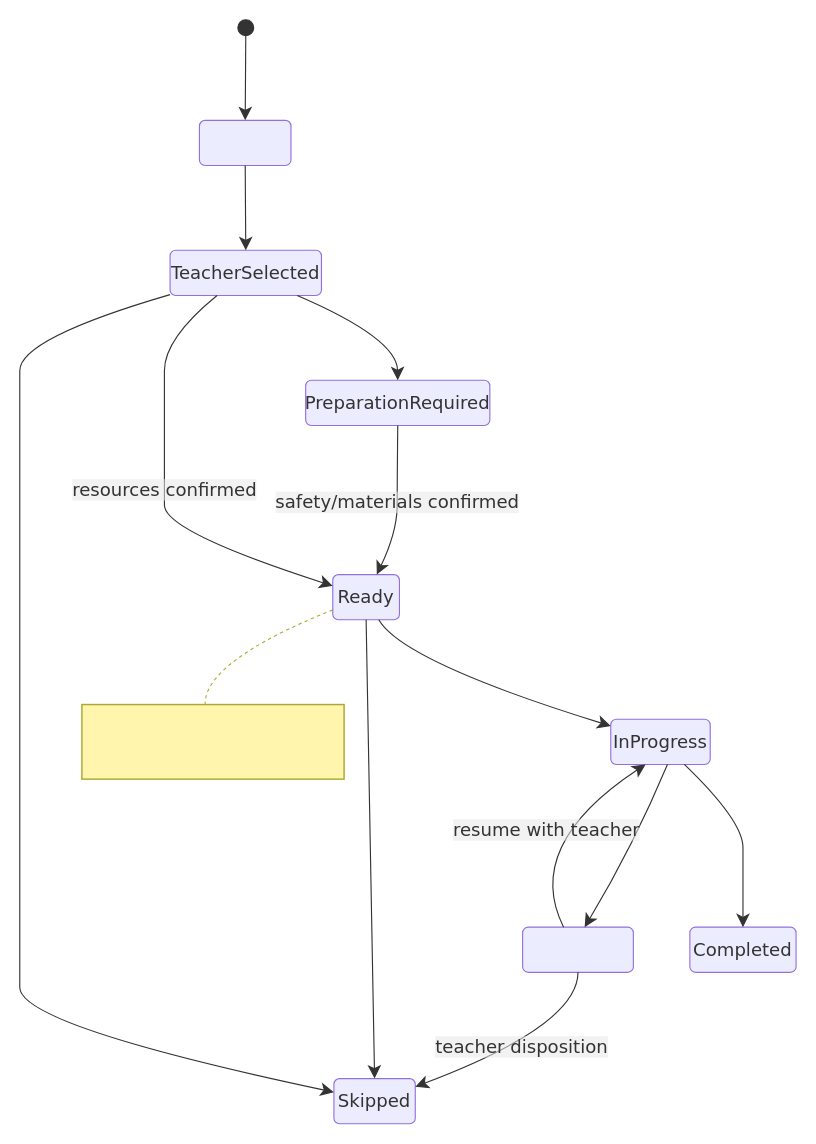
Some shapes in this 816 by 1144 pixel diagram are drawn without their labels. The centre of each missing label's shape, as x and y in pixels:
"Interrupted" goes at point 577,949.
"Proposed" goes at point 244,142.
"Teacher selection alone does not prove materials or safety readiness." goes at point 212,741.
